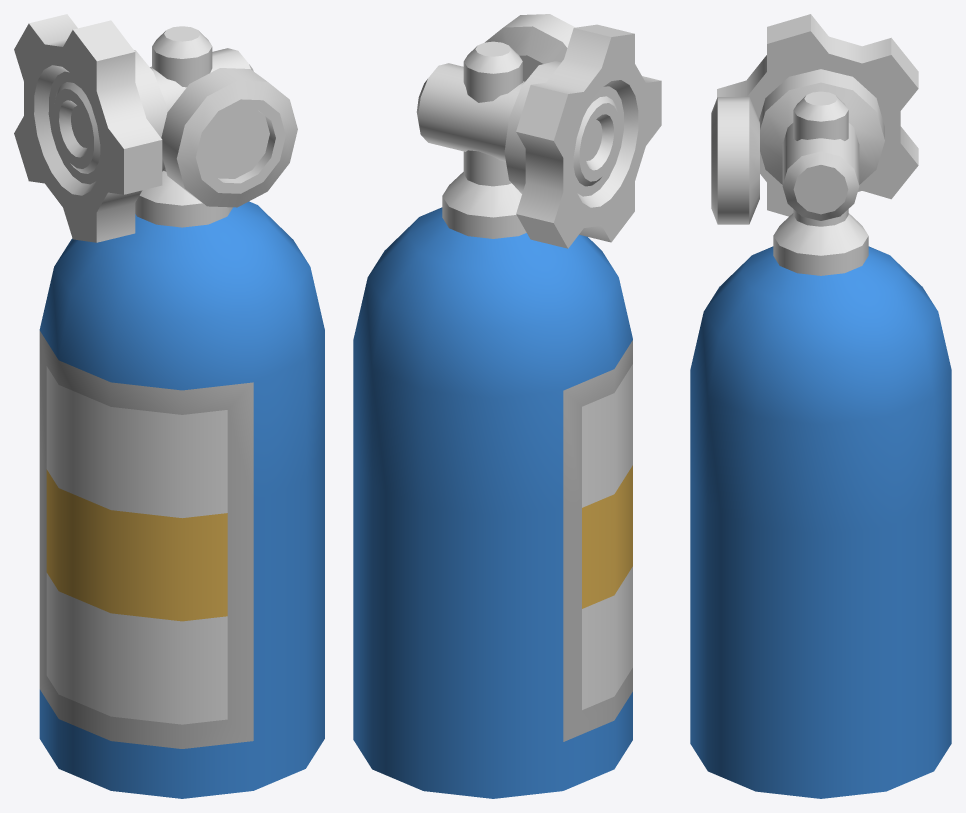
File: TurboBoost_PowerUp.fbx
The picture shows the model from 3 angles, left to right: view 1: azimuth 30°, elevation 25°; view 2: azimuth 150°, elevation 25°; view 3: azimuth 270°, elevation 25°; orthographic projection. The views are drawn at different scales.
Parts seen in each view (by area): view 1: Circle; view 2: Circle; view 3: Circle.
Boxes of the visible parts, bbox=[...] form: Circle: bbox=[14, 14, 324, 798]; Circle: bbox=[353, 14, 661, 798]; Circle: bbox=[690, 14, 951, 798].
Bounding box in the file's own units: 34.93 × 34.93 × 100.
